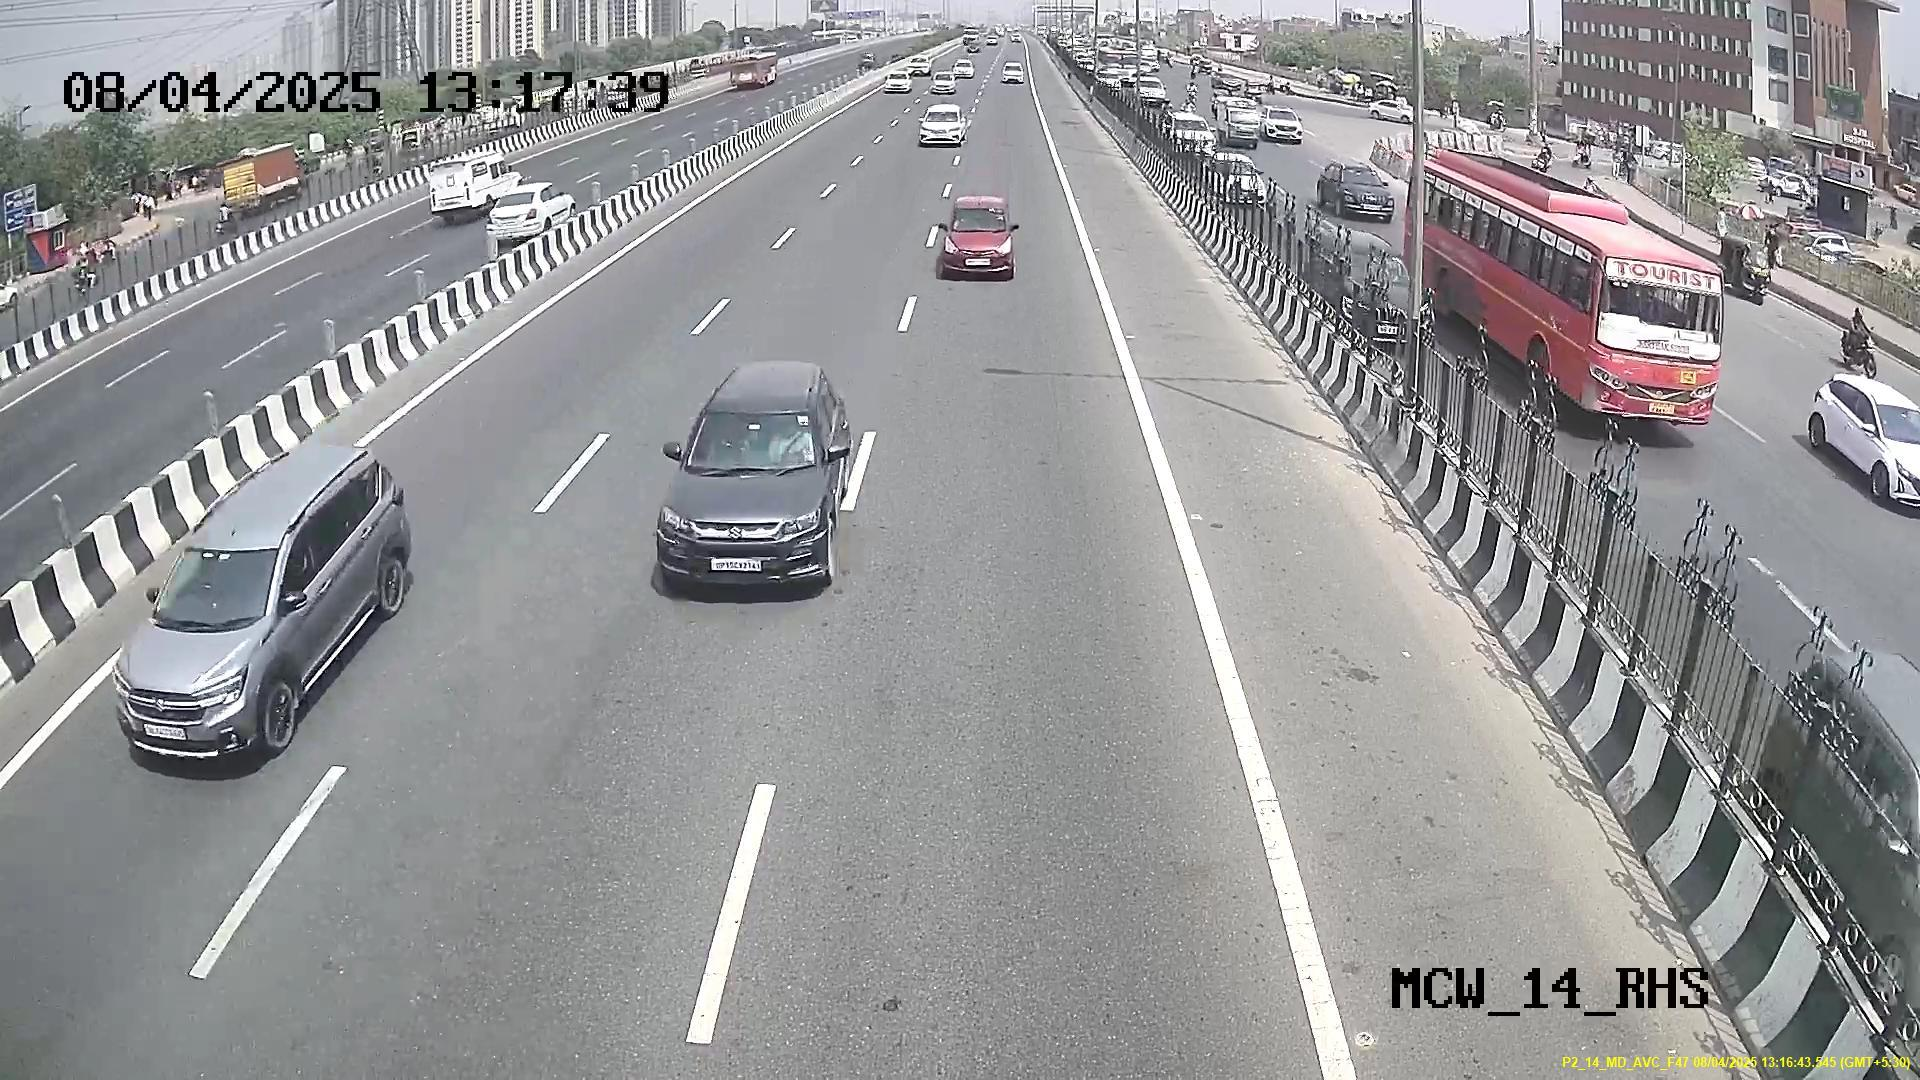car: (105, 506, 326, 765), (651, 396, 855, 603), (938, 198, 1014, 281)
